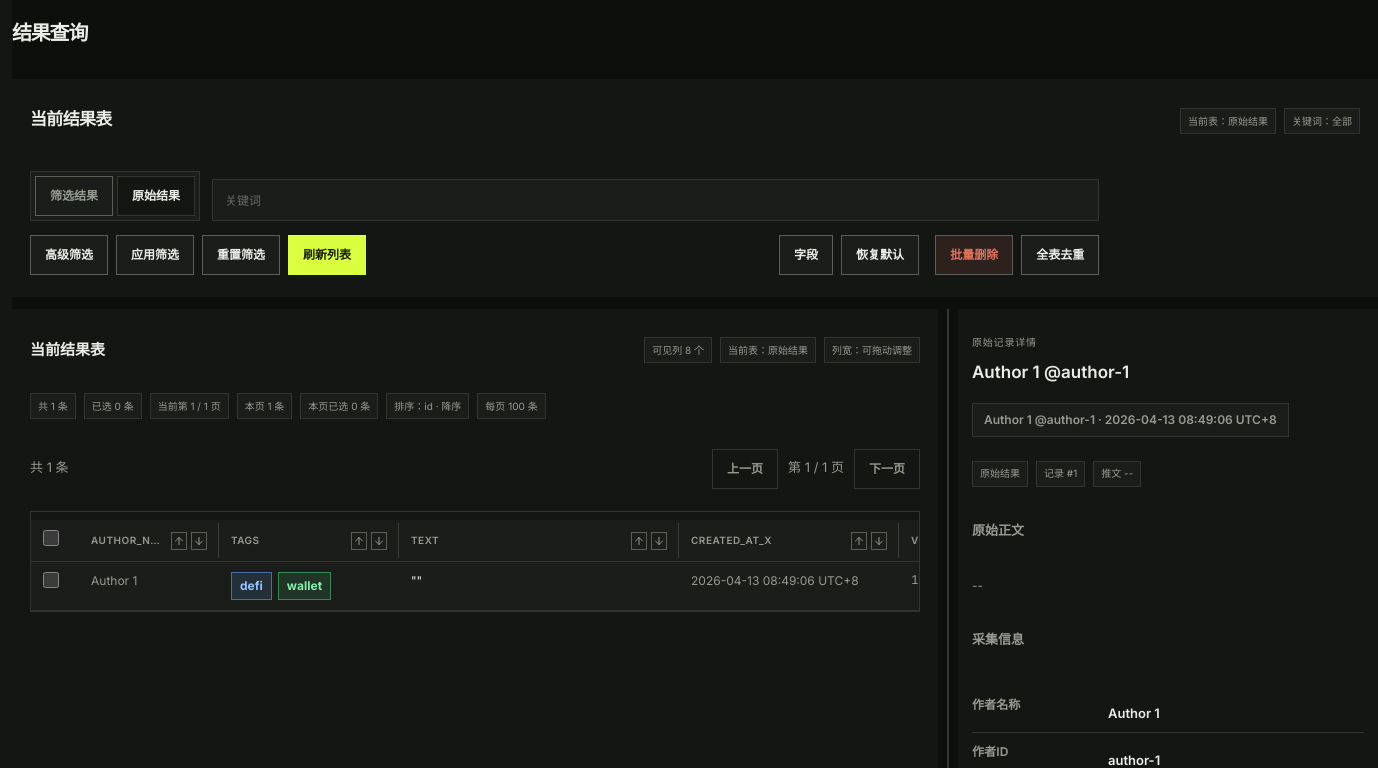
Test case: ResultsPage › renders the results workbench structure with one compact toolbar before the main workspace
The image size is (1378, 768).
Expected: the element with test id "results-page-header" is shown, [12,21,87,45]
Expected: the element with test id "results-table-status" is shown, [30,393,546,419]
Step 1. Click the button "字段" → (806, 255), box [779,235,833,275]
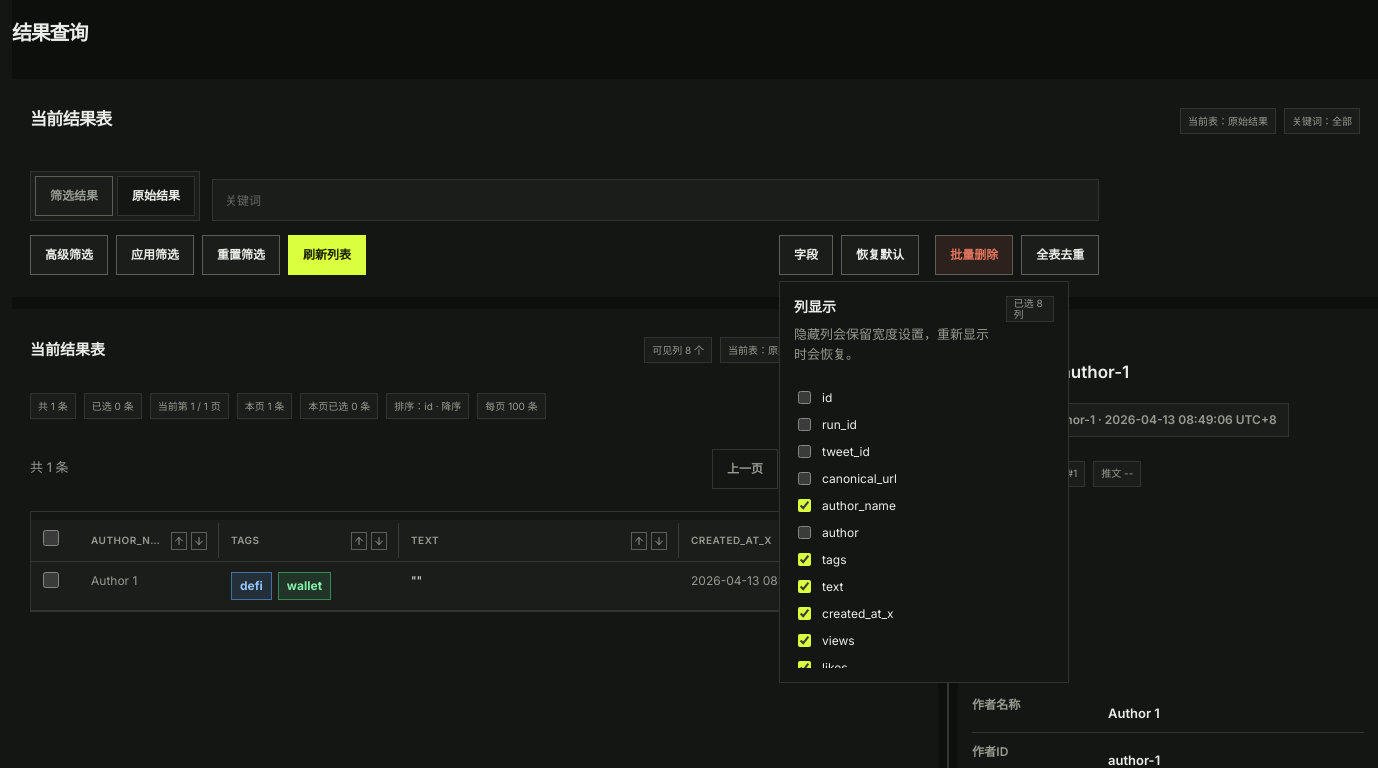
Now the element with test id "results-field-menu" is shown, box [779,281,1069,683]
Now the text "列显示" is shown, box [794,298,836,315]
